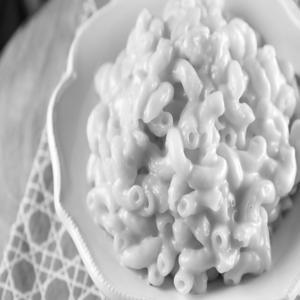pasta: (76, 5, 292, 290)
